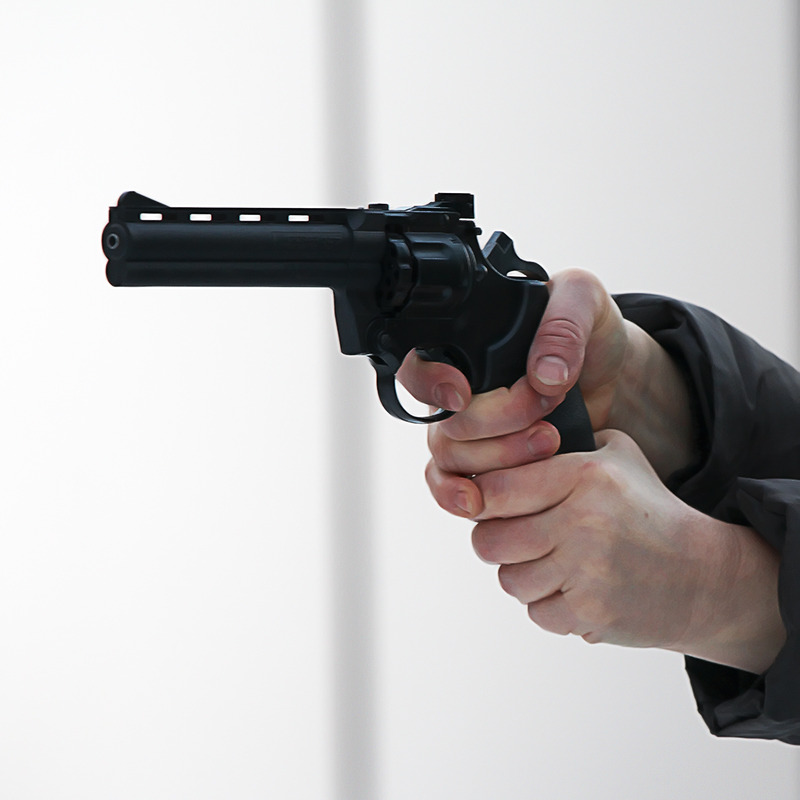gun: (89, 184, 662, 506)
